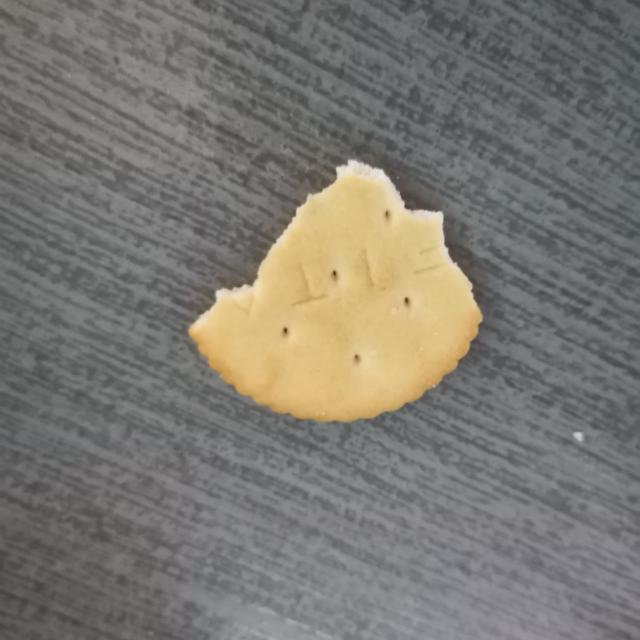Broken: (188, 157, 483, 423)
